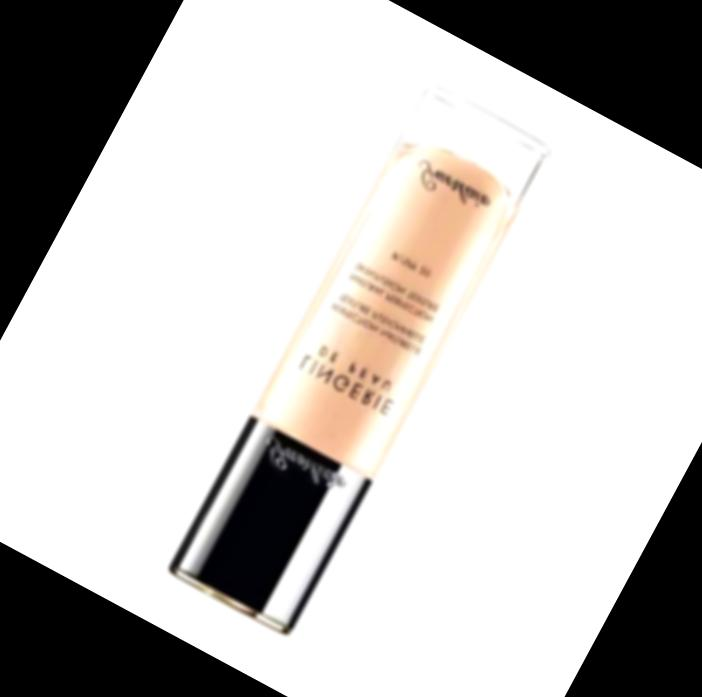cosmetic: (165, 84, 554, 641)
